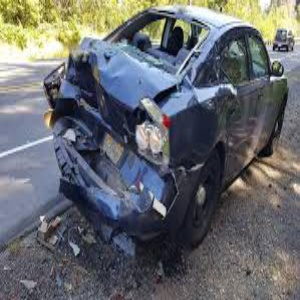bonnet: (69, 36, 156, 111)
bumper: (46, 167, 155, 237)
